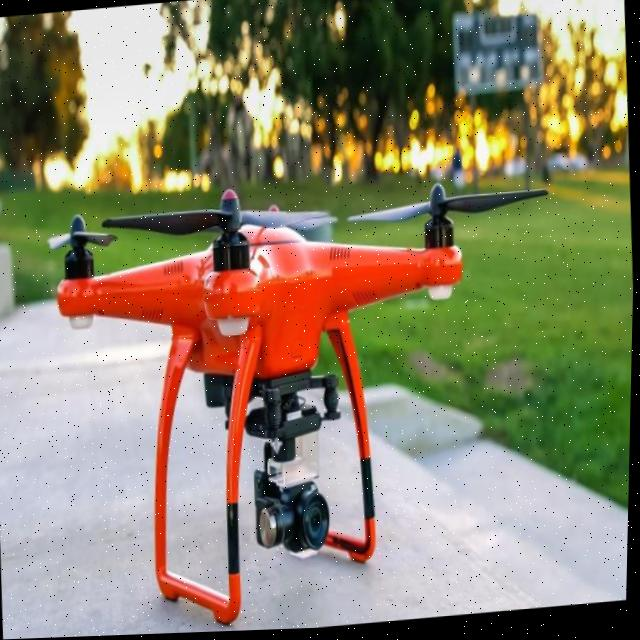drones: (27, 117, 613, 639)
